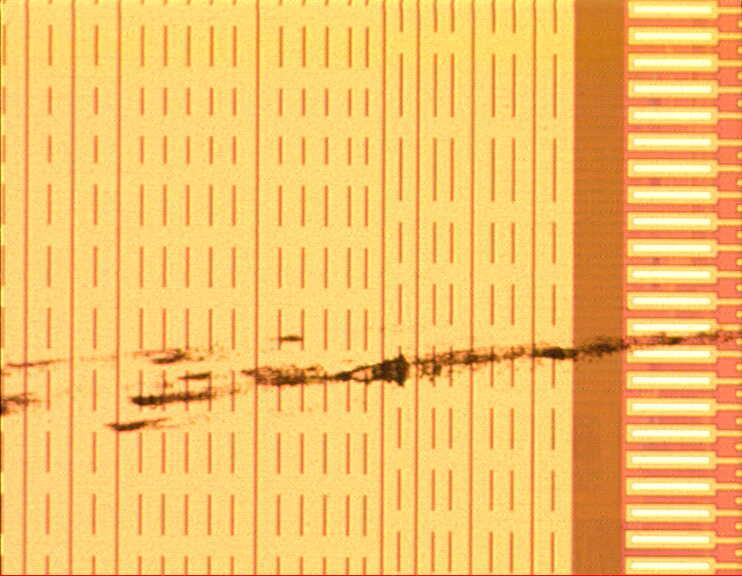SCRATCH: (1, 316, 742, 446)
